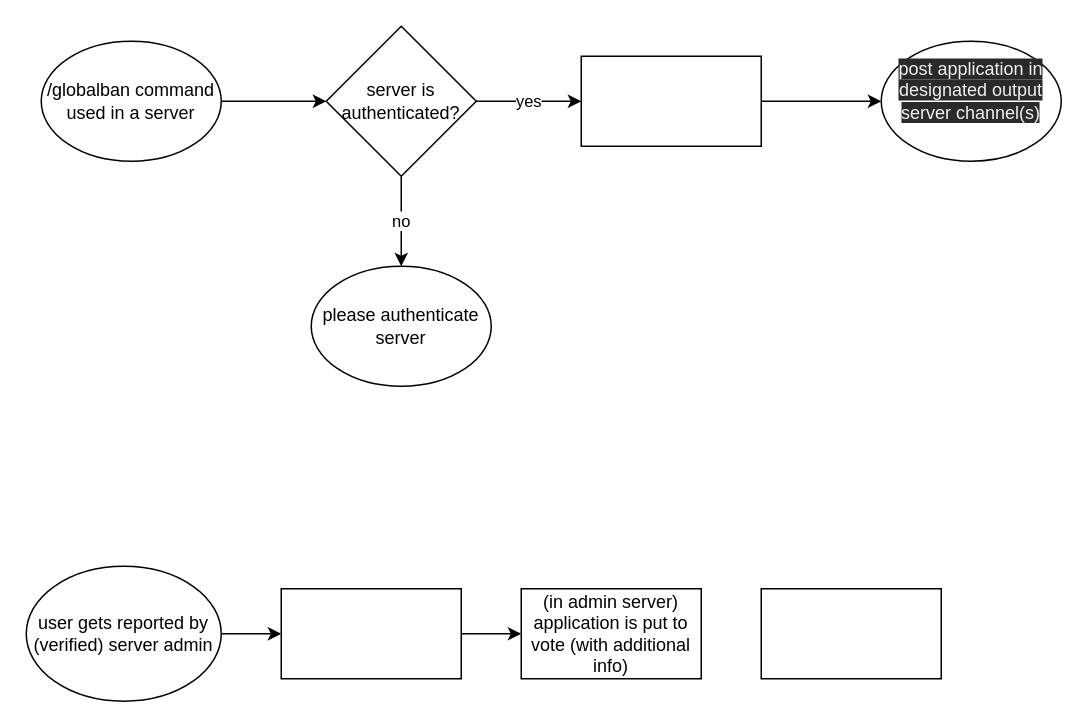
Image size: 1088x728. Some labels were removed from this diagram. Here are the shapes that lost their labels. From the top down, the centre of each, then its label:
point (670, 100): add user to ban applications
point (370, 633): ban application is made
point (850, 633): vote
